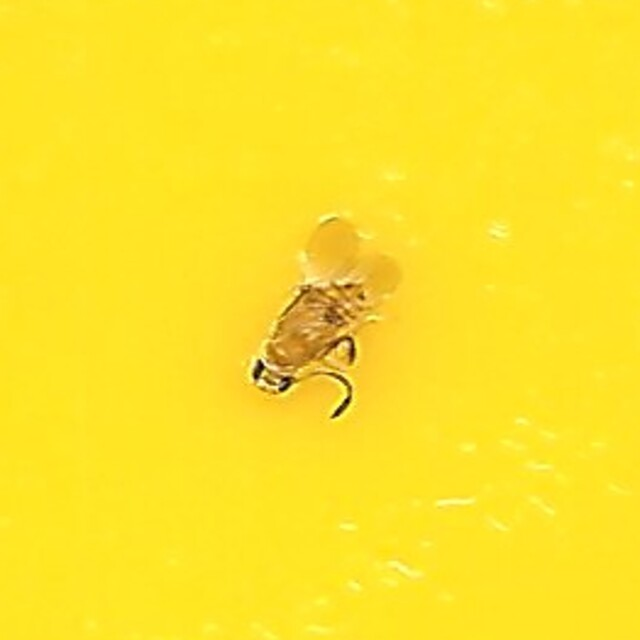Brachycera: (244, 219, 396, 421)
